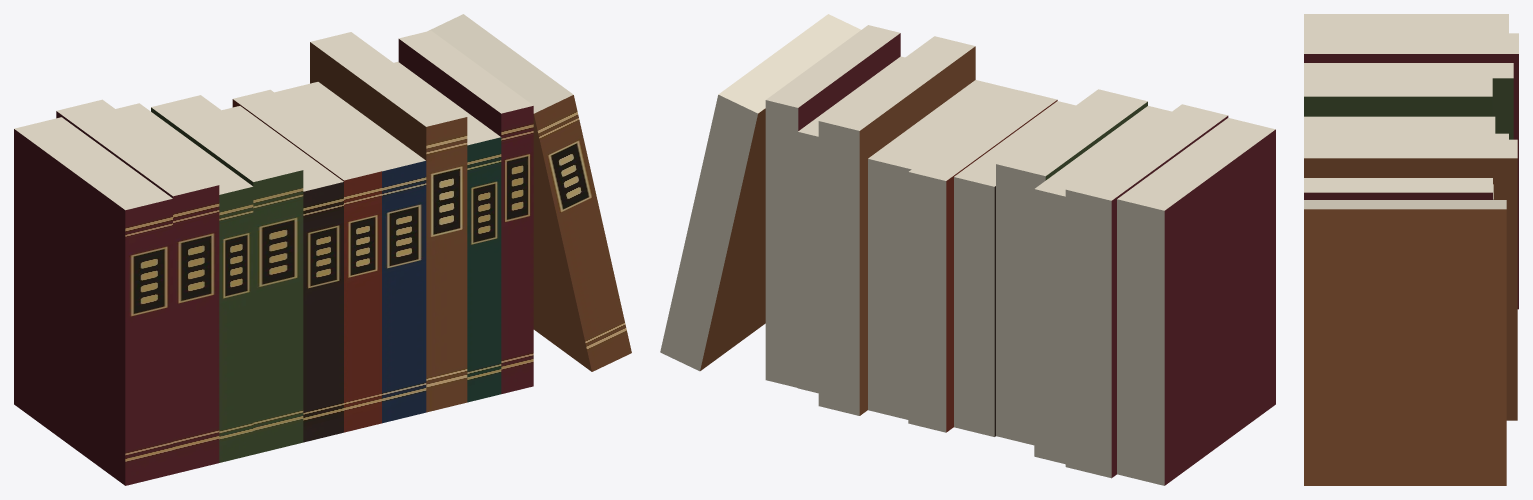
Rendered from obj-books-leather-row.glb.
3 views of the same model, side by side, from view 1: azimuth 30°, elevation 25°; view 2: azimuth 150°, elevation 25°; view 3: azimuth 270°, elevation 25° (orthographic). The views are drawn at different scales.
Parts seen in each view (by area): view 1: obj-books-leather-row; view 2: obj-books-leather-row; view 3: obj-books-leather-row.
Part boxes in pixels (x1,y1,x2,y2): obj-books-leather-row: (14, 14, 631, 485); obj-books-leather-row: (660, 14, 1275, 485); obj-books-leather-row: (1304, 14, 1518, 485).
Size of the model in its own units: 0.4358 by 0.2348 by 0.1741.
Materials: 1 (1 with a texture image).
